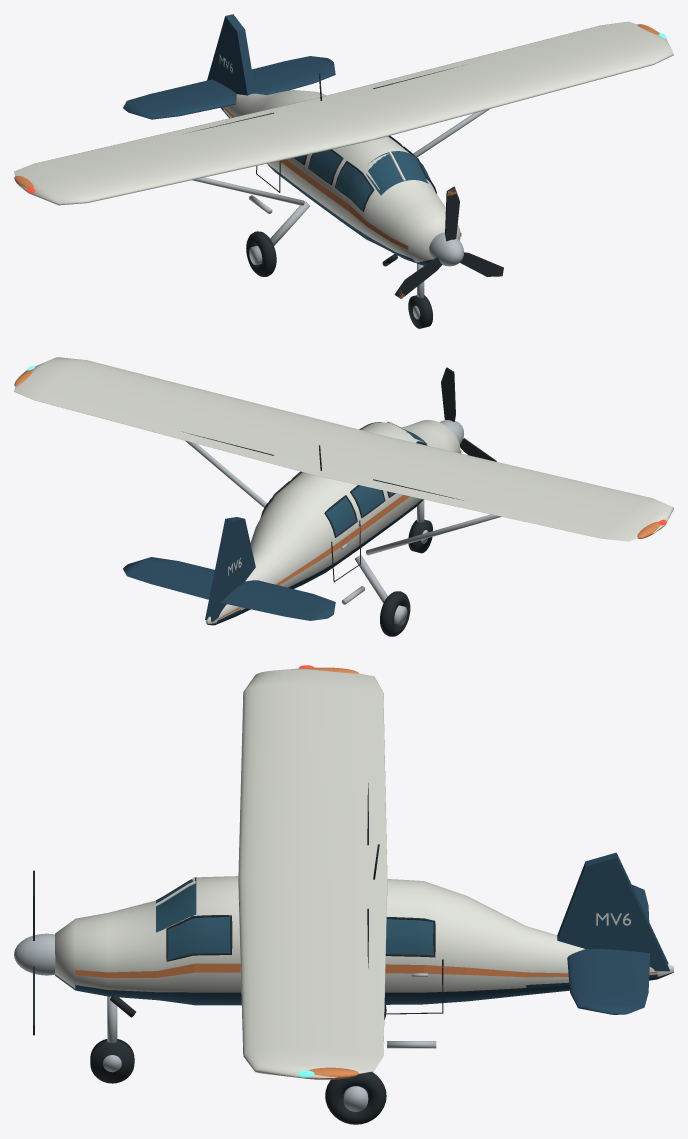
File: osprey_mv6.glb
3 views of the same model, one above another, from view 1: azimuth 30°, elevation 25°; view 2: azimuth 150°, elevation 25°; view 3: azimuth 270°, elevation 25° (orthographic). The views are drawn at different scales.
Parts seen in each view (by area): view 1: Long commuter high wing, Long six-seat cabin, Horizontal stabilizer, Tall swept tail, Panoramic windscreen, Commuter main tyre, Flush commuter window, Fine copper cheatline, Polished spinner, Wing strut, Propeller blade.002, Propeller blade (+4 smaller); view 2: Long commuter high wing, Long six-seat cabin, Horizontal stabilizer, Tall swept tail, Commuter main tyre, Fine copper cheatline, Wing strut, Flush commuter window.003, Propeller blade, Wing strut.001, Flush commuter window.002, Nose wheel (+1 smaller); view 3: Long commuter high wing, Long six-seat cabin, Tall swept tail, Horizontal stabilizer, Fine copper cheatline.001, Flush commuter window.004, Commuter main tyre.001, Flush commuter window.007, Polished spinner, Nose wheel, Panoramic windscreen.
Boxes of the visible parts, box(x1,y1,x2,y2) form: Long commuter high wing: box(14, 21, 673, 205); Long six-seat cabin: box(220, 90, 460, 265); Horizontal stabilizer: box(123, 56, 335, 119); Tall swept tail: box(207, 14, 255, 95); Panoramic windscreen: box(366, 151, 428, 195); Commuter main tyre: box(246, 231, 276, 276); Flush commuter window: box(336, 162, 372, 209); Fine copper cheatline: box(223, 107, 408, 249); Polished spinner: box(429, 232, 463, 266); Wing strut: box(192, 177, 304, 205); Propeller blade.002: box(394, 257, 442, 298); Propeller blade: box(445, 186, 459, 241); Long commuter high wing: box(14, 357, 673, 541); Long six-seat cabin: box(206, 420, 460, 625); Horizontal stabilizer: box(123, 557, 335, 620); Tall swept tail: box(205, 517, 255, 621); Commuter main tyre: box(380, 591, 410, 636); Fine copper cheatline: box(218, 450, 461, 619); Wing strut: box(366, 514, 501, 555); Flush commuter window.003: box(326, 497, 356, 535); Propeller blade: box(441, 367, 455, 421); Wing strut.001: box(185, 440, 266, 507); Flush commuter window.002: box(352, 485, 383, 516); Nose wheel: box(408, 519, 432, 553); Long commuter high wing: box(238, 668, 387, 1078); Long six-seat cabin: box(55, 876, 673, 1005); Tall swept tail: box(557, 852, 669, 971); Horizontal stabilizer: box(567, 885, 650, 1014); Fine copper cheatline.001: box(75, 963, 657, 977); Flush commuter window.004: box(168, 916, 230, 959); Commuter main tyre.001: box(325, 1072, 386, 1124); Flush commuter window.007: box(386, 918, 433, 955); Polished spinner: box(14, 933, 55, 975); Nose wheel: box(90, 1039, 134, 1083); Panoramic windscreen: box(156, 877, 196, 932).
Size of the model in its own units: 11.81 by 3.18 by 8.05.
